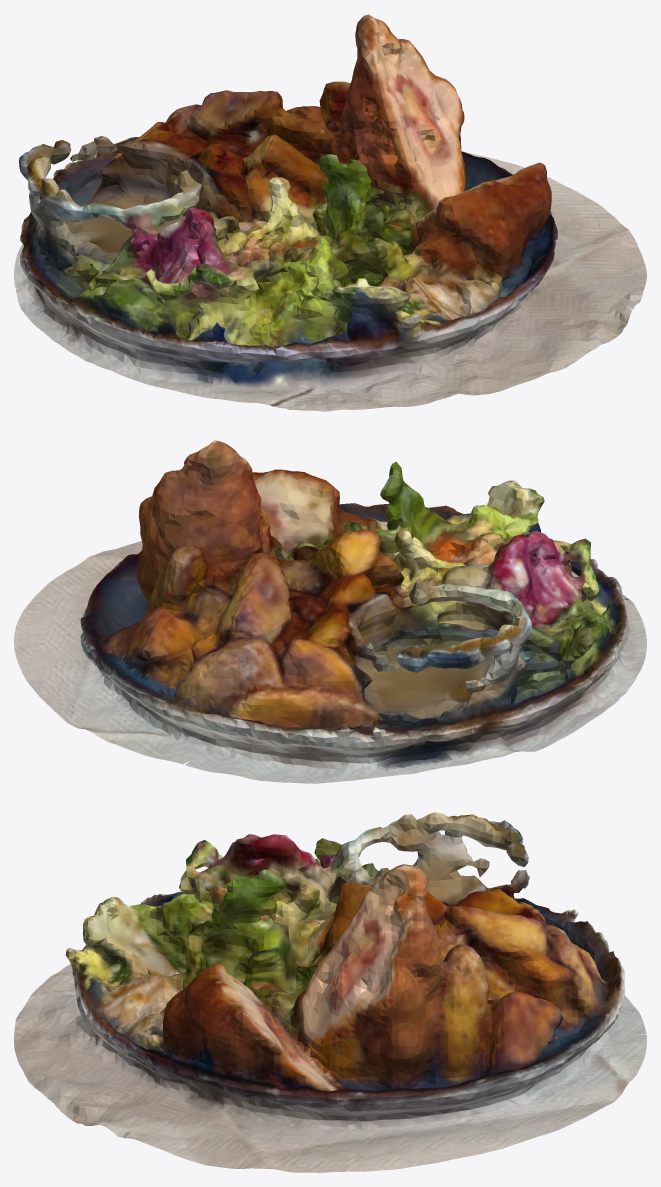
3 renders of one model, top to bottom at view 1: azimuth 30°, elevation 25°; view 2: azimuth 150°, elevation 25°; view 3: azimuth 270°, elevation 25°, orthographic.
Bounding box in the file's own units: 0.2889 × 0.1096 × 0.2889.
1 material, 1 textured.
